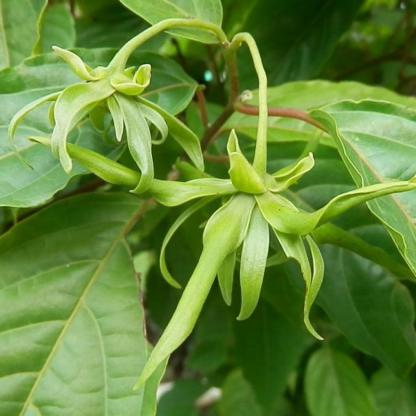Kenanga: (119, 148, 351, 369), (55, 48, 170, 190)
